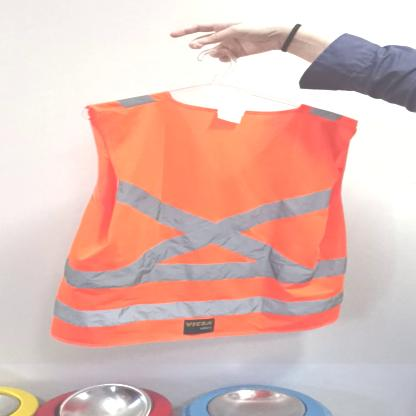colete: (46, 90, 351, 348)
